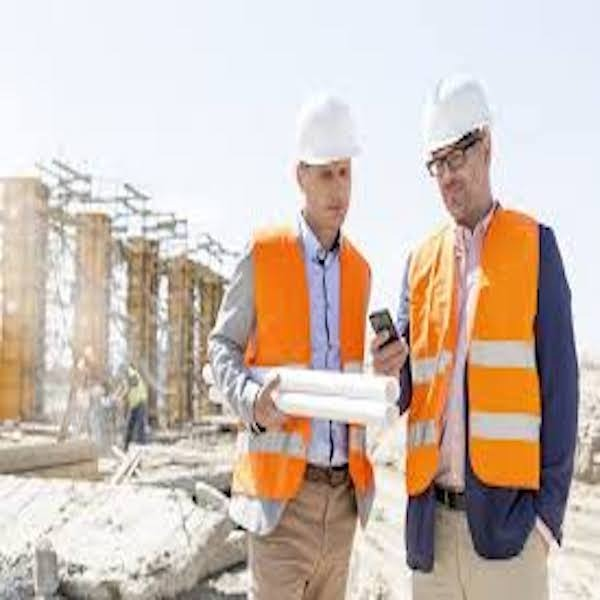helmet: (423, 77, 491, 162), (297, 94, 366, 168)
vest: (239, 228, 379, 504), (408, 210, 546, 484)
